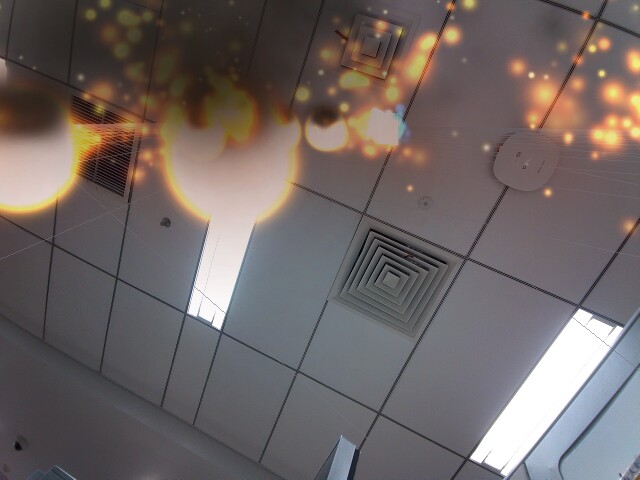fire: (164, 90, 298, 220), (0, 81, 84, 215), (178, 108, 229, 160), (305, 106, 352, 152)
